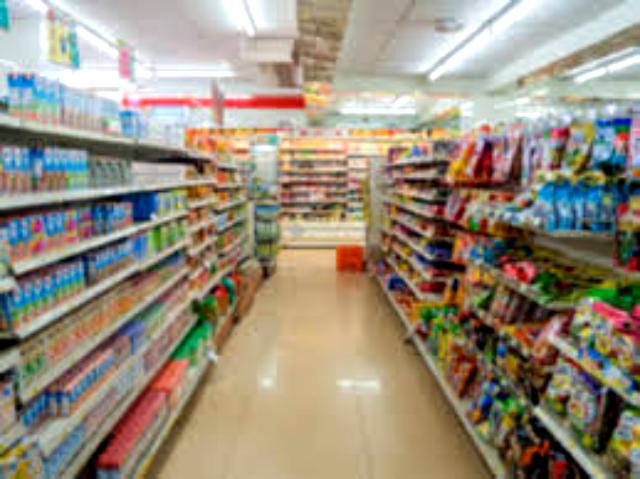background: (4, 1, 640, 475)
